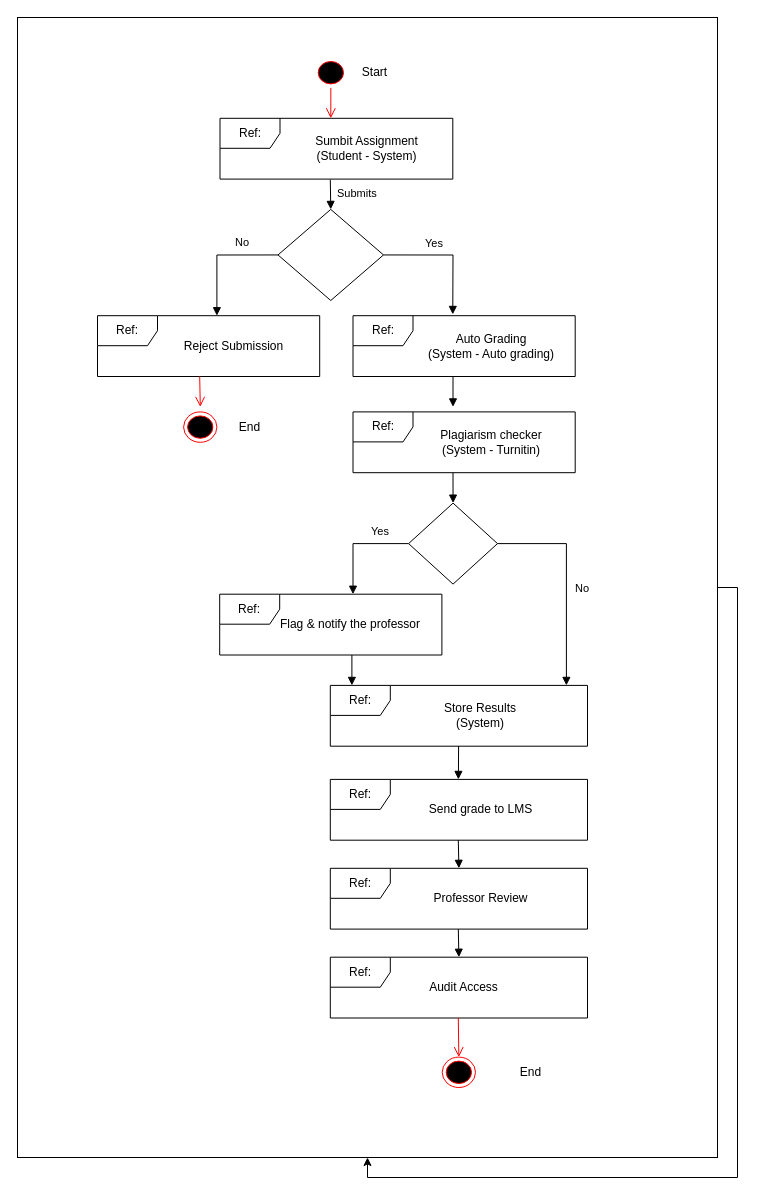
Some shapes in this 763 by 1203 pixel diagram are drawn without their labels. The centre of each missing label's shape, as x and y in pixels:
"Before Deadline?" belongs at [330,254].
"Plagiarism" belongs at [453,543].
